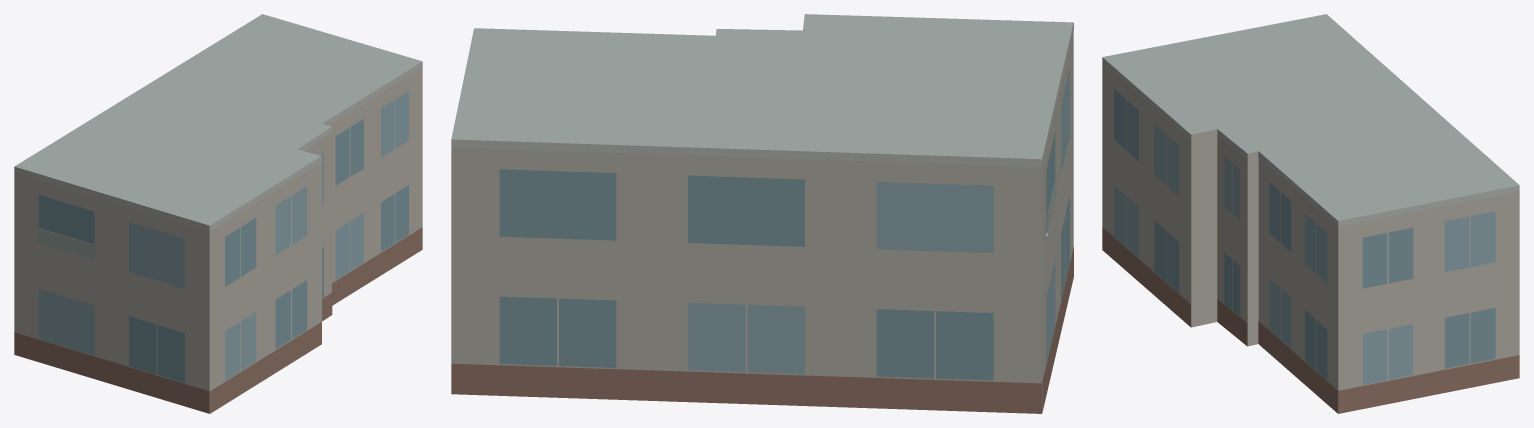
File: survey-upis-32736714.glb
The picture shows the model from 3 angles, left to right: view 1: azimuth 30°, elevation 25°; view 2: azimuth 150°, elevation 25°; view 3: azimuth 270°, elevation 25°; orthographic projection. The views are drawn at different scales.
Visible parts, largest first — view 1: survey-upis-32736714.tmp; view 2: survey-upis-32736714.tmp; view 3: survey-upis-32736714.tmp.
Boxes of the visible parts, <box> form: survey-upis-32736714.tmp: <box>14,14,422,413</box>; survey-upis-32736714.tmp: <box>451,14,1073,413</box>; survey-upis-32736714.tmp: <box>1102,14,1519,413</box>.
Bounding box in the file's own units: 18.2 × 7.9 × 15.51.
